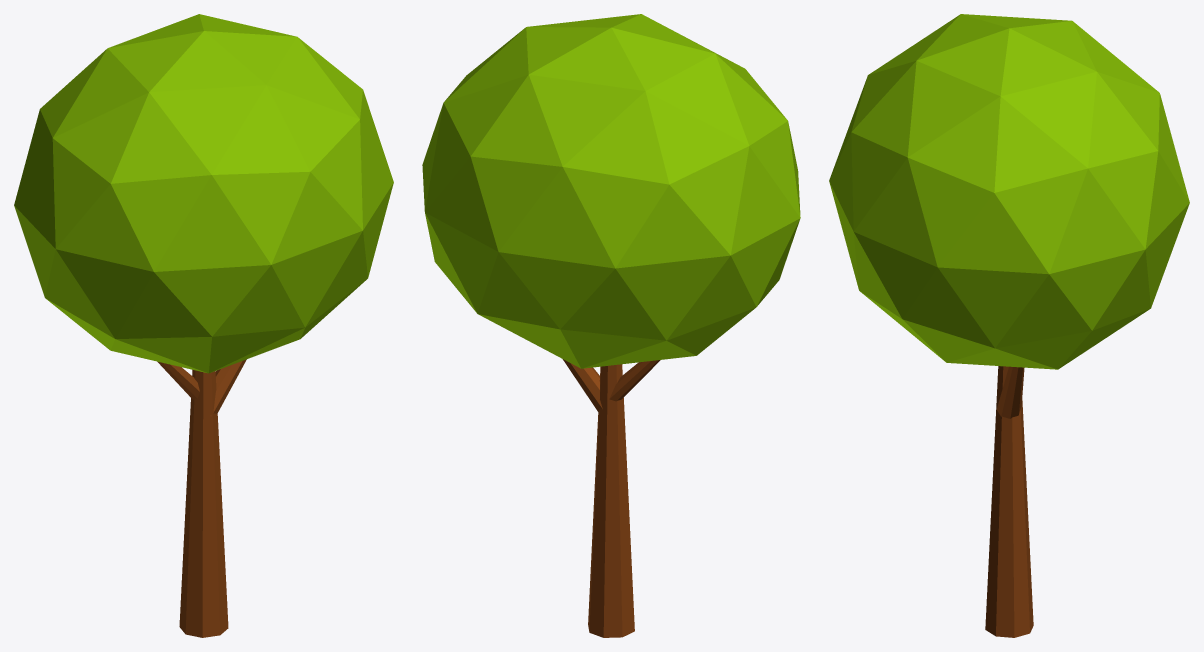
The model's file is arbol1.obj.
3 views of the same model, side by side, from view 1: azimuth 30°, elevation 25°; view 2: azimuth 150°, elevation 25°; view 3: azimuth 270°, elevation 25° (orthographic).
Parts seen in each view (by area): view 1: Copa1, Tronco1; view 2: Copa1, Tronco1; view 3: Copa1, Tronco1.
Part boxes in pixels (x1=…): Copa1: x1=14, y1=14, x2=393, y2=373; Tronco1: x1=157, y1=359, x2=246, y2=637; Copa1: x1=422, y1=14, x2=800, y2=368; Tronco1: x1=562, y1=359, x2=660, y2=637; Copa1: x1=829, y1=14, x2=1189, y2=369; Tronco1: x1=985, y1=366, x2=1033, y2=637.
Size of the model in its own units: 5.5 by 9.32 by 5.09.
Materials: 2 (2 with a texture image).
